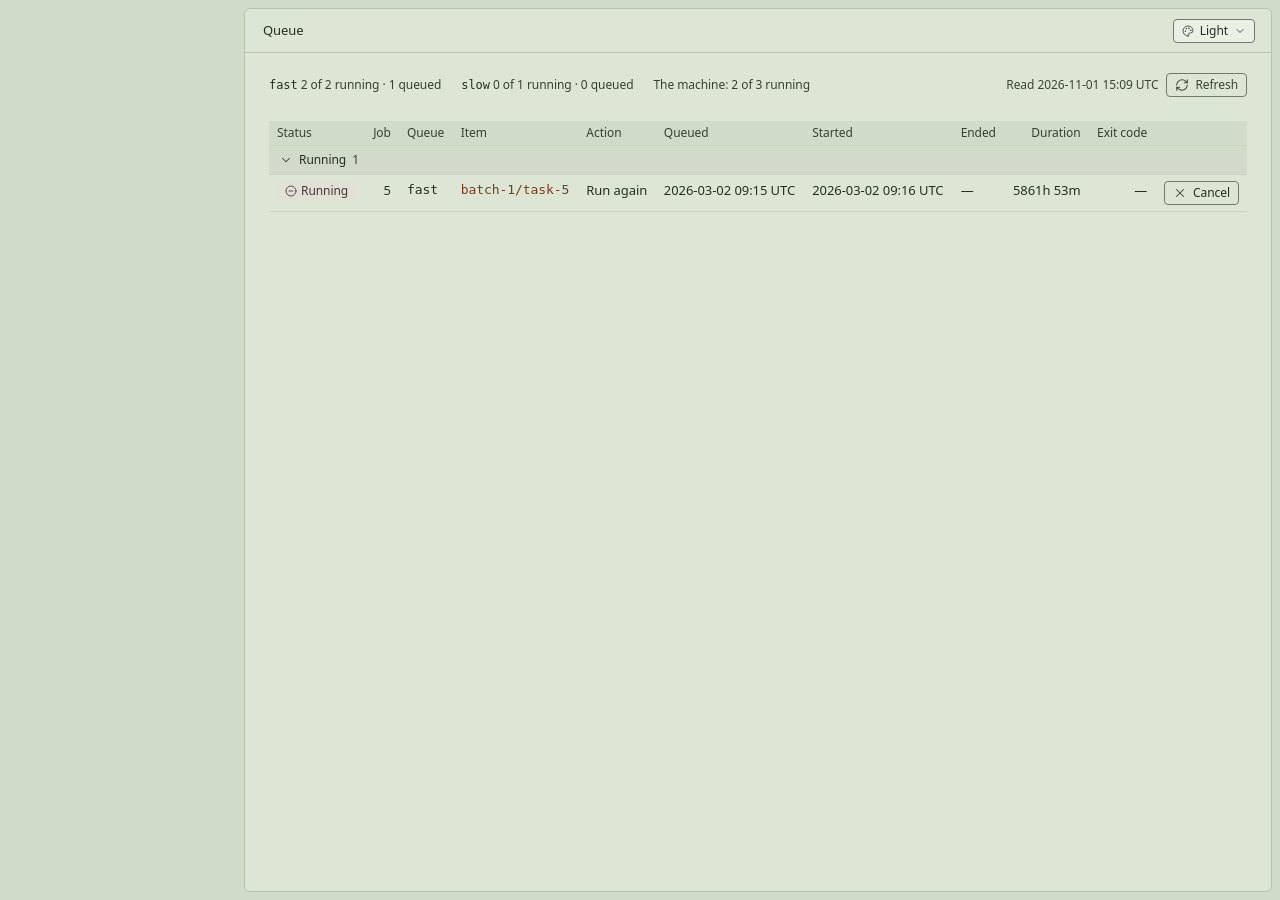
Scenario: the queue page › warns that a running job's processes are sent SIGTERM
The width and height of the screenshot is (1280, 900).
Click the button "Cancel": (1202, 193) [1164, 181, 1239, 205]
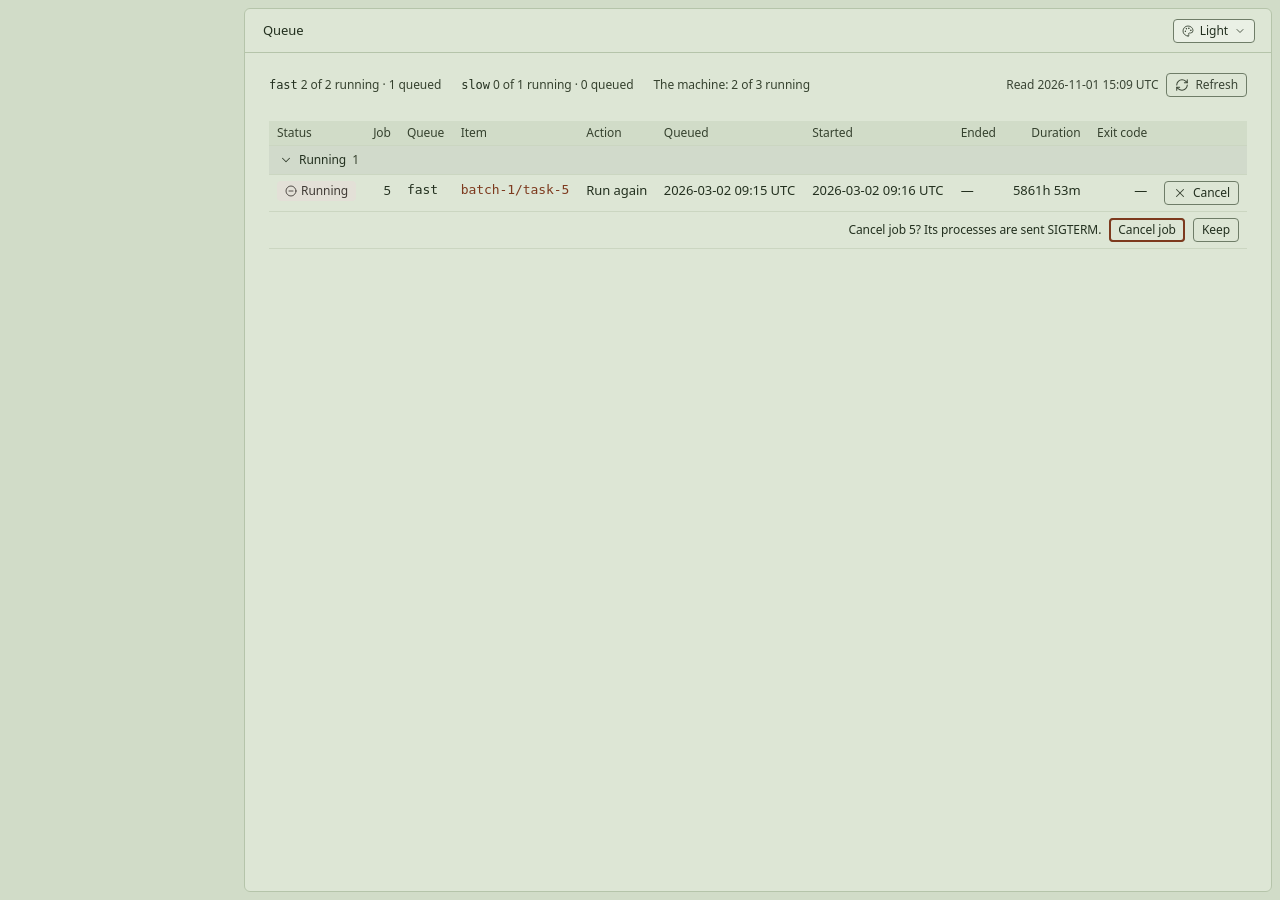
Expected: the text "Cancel job 5? Its processes are sent SIGTERM." is shown, [848, 222, 1101, 238]
